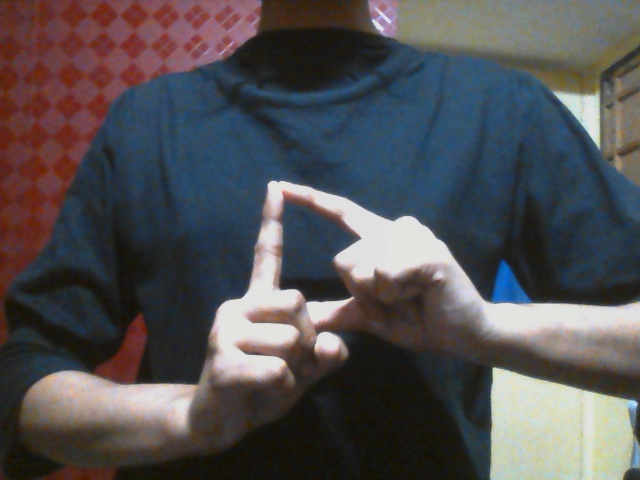D: (195, 178, 472, 461)
